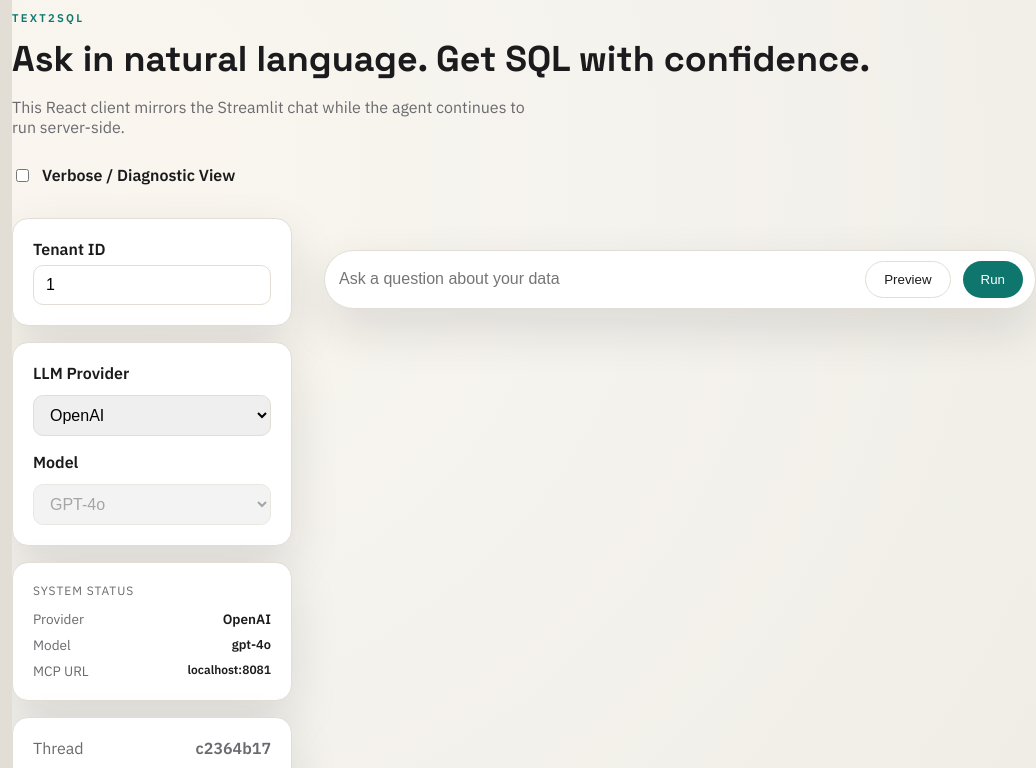
Scenario: AgentChat pagination › shows warning when page returns different columns
The width and height of the screenshot is (1036, 768).
In the field with placeholder "Ask a question about your data": (595, 279) x1=337 y1=261 x2=853 y2=298, type "schema mismatch"
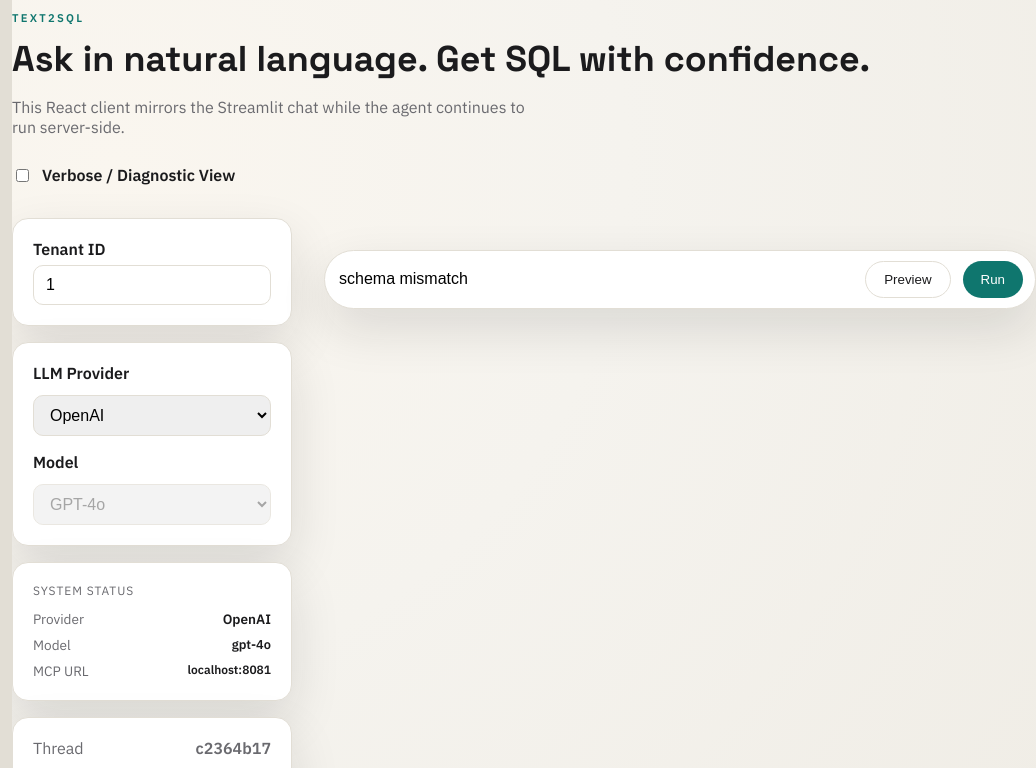
Submit the form with placeholder "ask a question", box x1=324 y1=250 x2=1035 y2=309
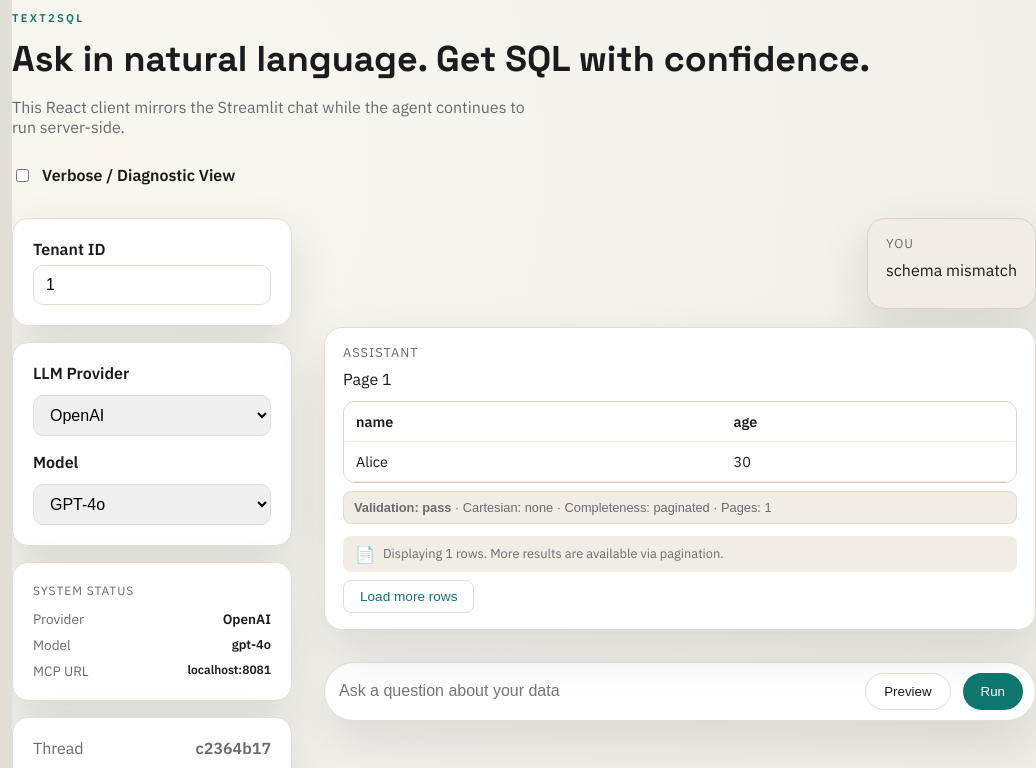
Check: the button with test id "load-more-button" is shown
Click the button with test id "load-more-button": (409, 596) x1=343 y1=580 x2=474 y2=613
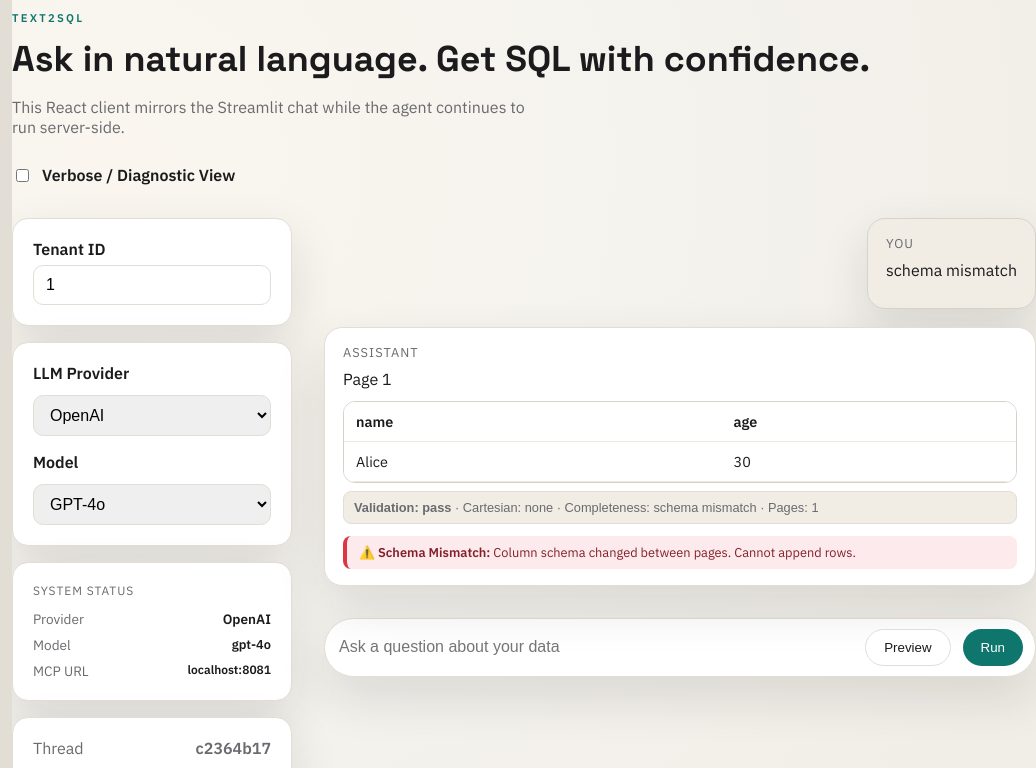
Check: the element with test id "schema-mismatch-warning" is shown, box x1=343 y1=536 x2=1017 y2=569
Check: the text "Column schema changed" is shown, box x1=490 y1=544 x2=856 y2=561
Check: the button with test id "load-more-button" is gone
